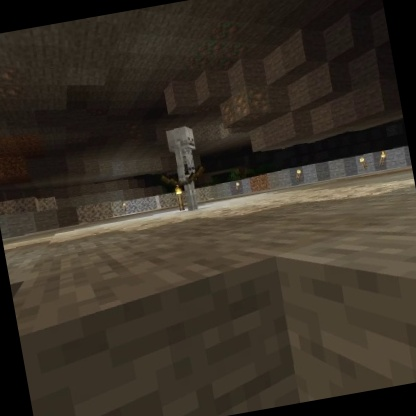skeleton: (148, 120, 216, 219)
